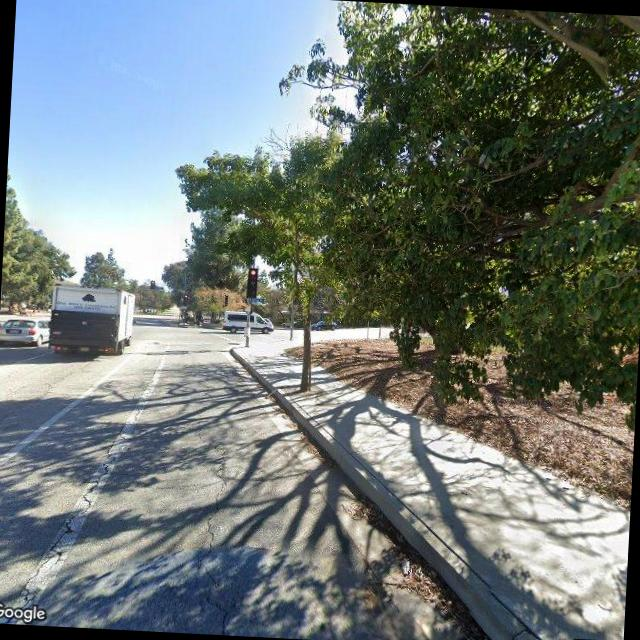pothole: (5, 392, 140, 614), (183, 428, 260, 636)
